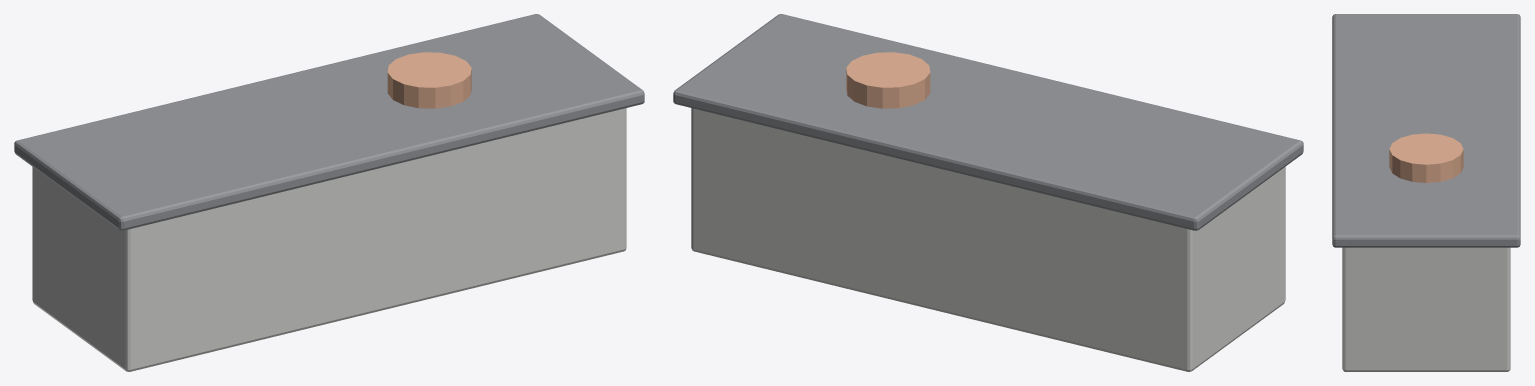
File: island.glb
The picture shows the model from 3 angles, left to right: view 1: azimuth 30°, elevation 25°; view 2: azimuth 150°, elevation 25°; view 3: azimuth 270°, elevation 25°; orthographic projection. The views are drawn at different scales.
Visible parts, largest first — view 1: Island; view 2: Island; view 3: Island.
Boxes of the visible parts, x1,y1,x2,y2 form: Island: (14, 14, 644, 371); Island: (673, 14, 1303, 371); Island: (1332, 14, 1520, 371).
Size of the model in its own units: 3.15 by 1.05 by 1.12.
